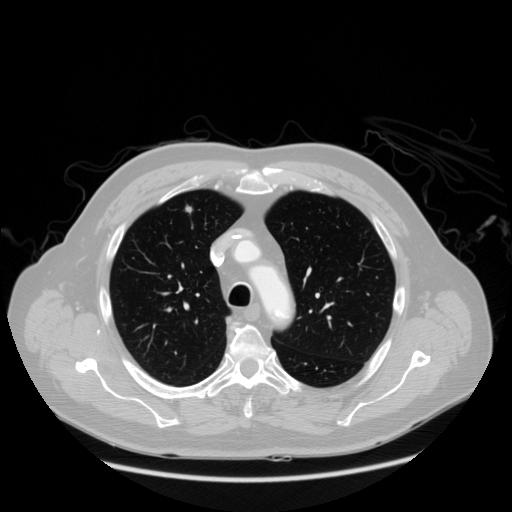nodule: (182, 202, 196, 216)
